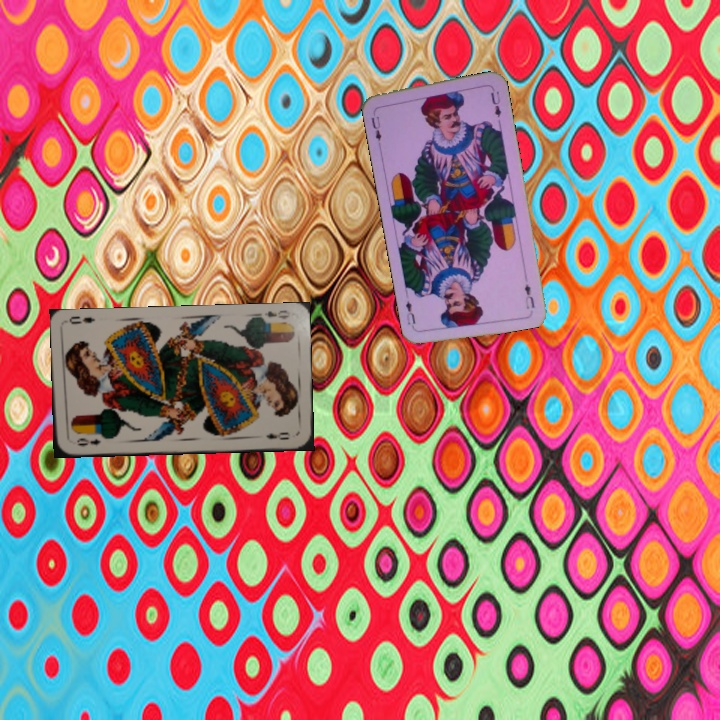EO: (253, 306, 293, 326), (73, 434, 103, 449)
EU: (367, 112, 384, 144), (520, 280, 537, 311)
